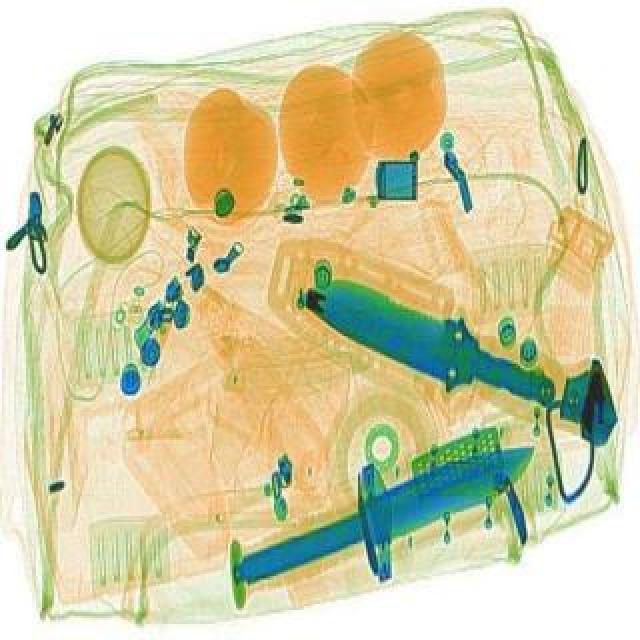knife: (198, 408, 566, 638), (288, 258, 576, 438)
